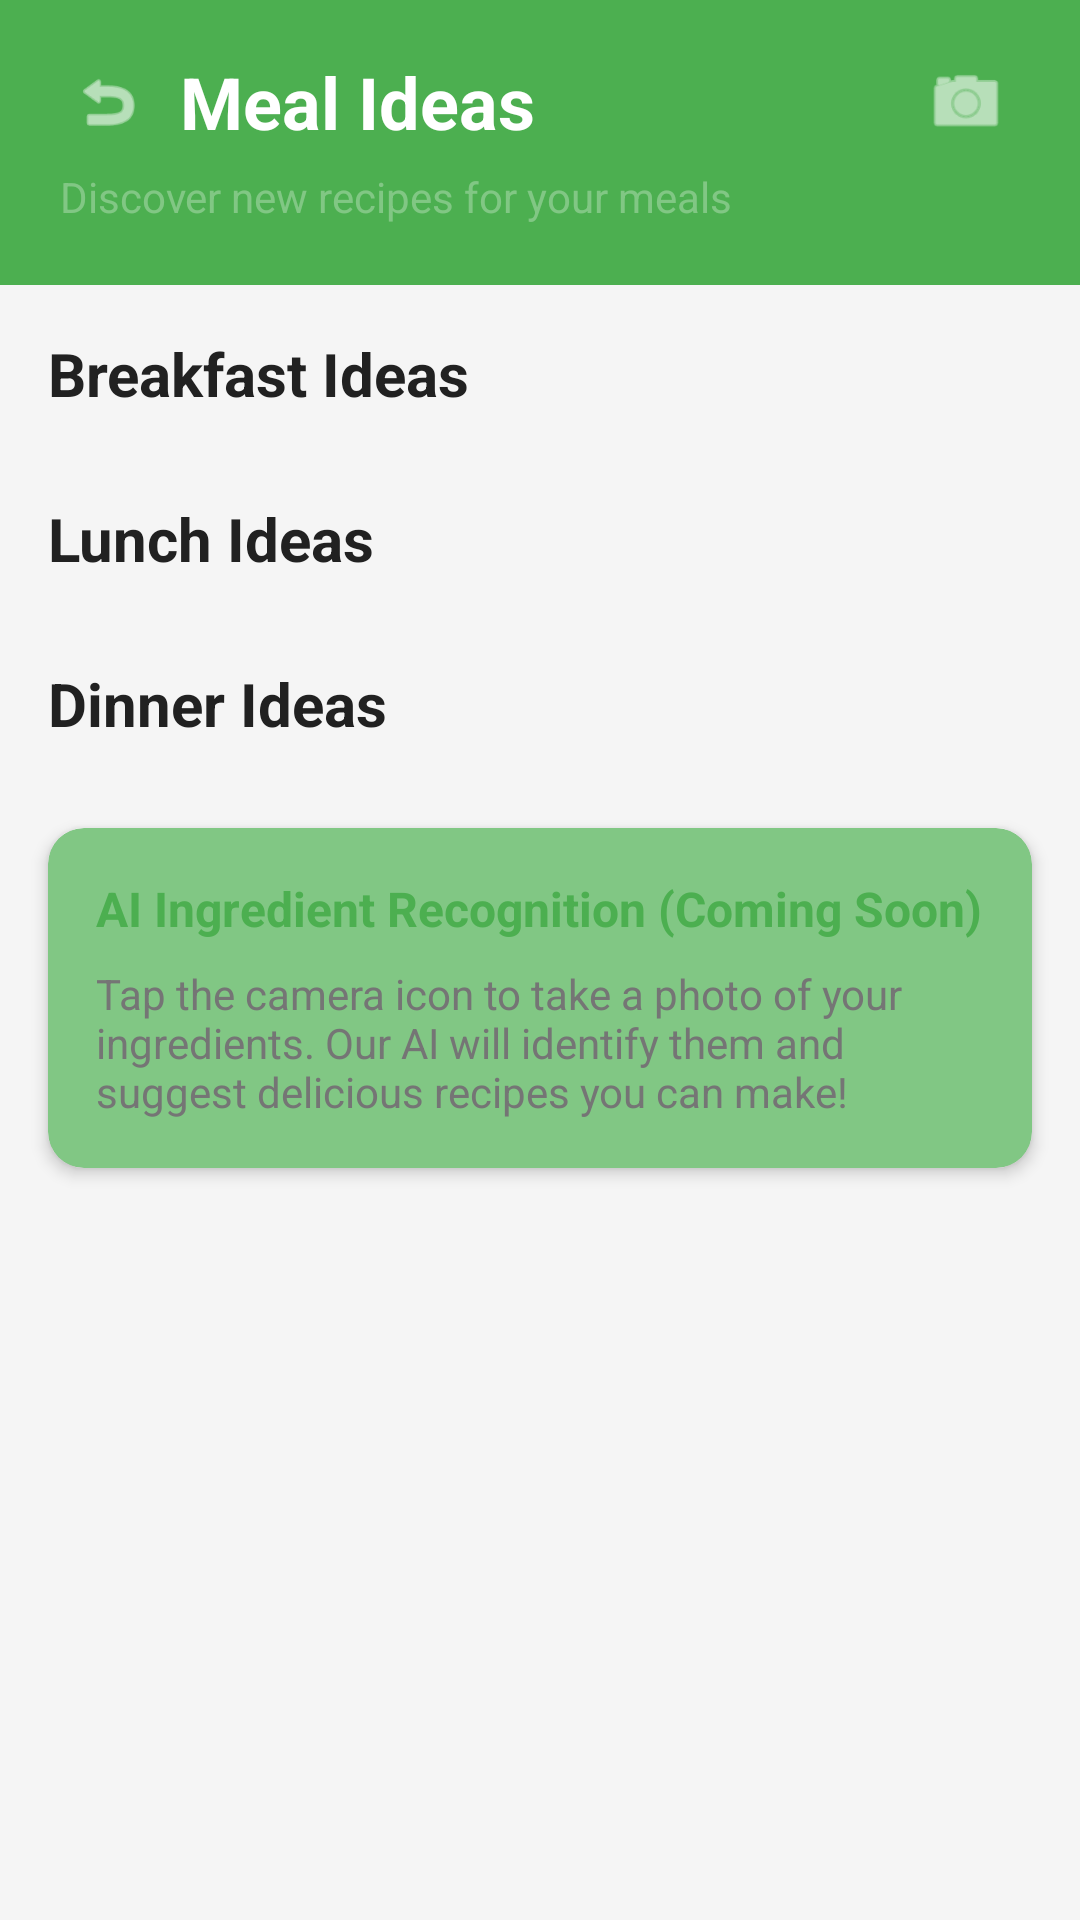

Screen size 1080×1920. Icon name, then its box in pixels as (x1=x1, y1=y1, x2=x2, y2=y2):
Back: (x1=83, y1=79, x2=135, y2=126)
